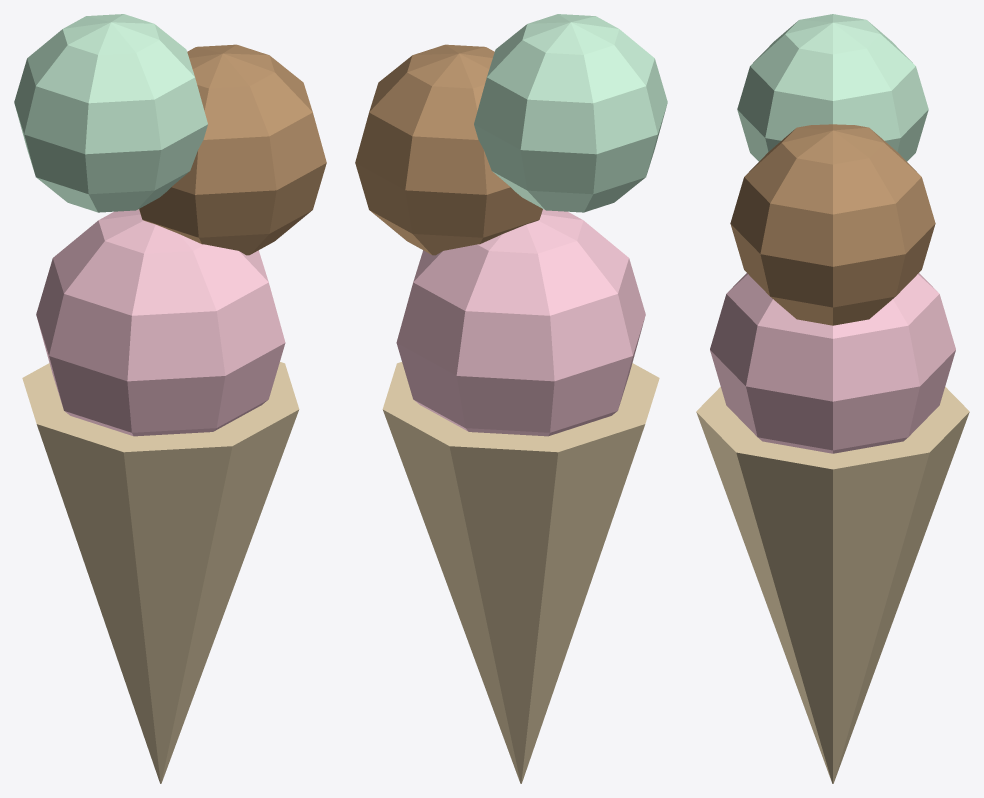
The model's file is ice_cream.glb.
3 renders of one model, left to right at view 1: azimuth 30°, elevation 25°; view 2: azimuth 150°, elevation 25°; view 3: azimuth 270°, elevation 25°, orthographic. The views are drawn at different scales.
Visible parts, largest first — view 1: Cone, Sphere, Sphere.002, Sphere.001; view 2: Cone, Sphere, Sphere.002, Sphere.001; view 3: Cone, Sphere, Sphere.001, Sphere.002.
Part boxes in pixels (x1,y1,x2,y2): Cone: (22,362,299,783); Sphere: (36,209,285,436); Sphere.002: (14,14,207,212); Sphere.001: (139,44,326,255); Cone: (382,362,659,783); Sphere: (396,209,645,436); Sphere.002: (474,14,667,212); Sphere.001: (355,44,542,255); Cone: (696,386,969,783); Sphere: (710,273,955,453); Sphere.001: (730,124,935,325); Sphere.002: (737,14,928,161).
Size of the model in its own units: 0.47 by 1.19 by 0.4.
